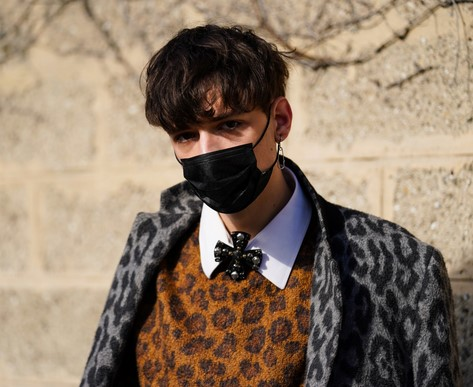face_with_mask: (143, 27, 291, 216)
